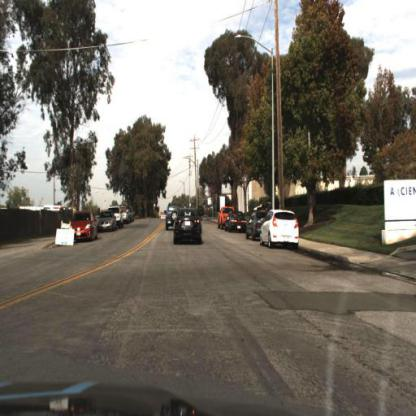car: (259, 205, 302, 254), (171, 204, 210, 250), (67, 209, 101, 249), (173, 206, 204, 246), (242, 205, 262, 247), (163, 200, 181, 238), (227, 209, 249, 238), (96, 209, 117, 237), (110, 205, 125, 231), (217, 204, 227, 235)
